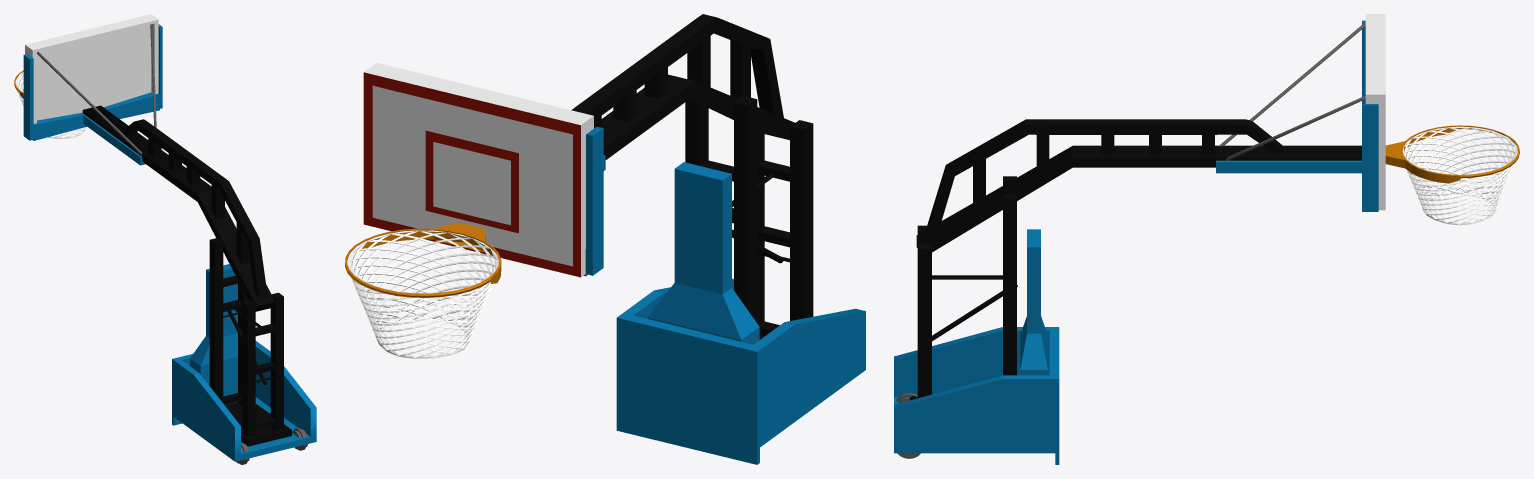
Rendered from hoopring.glb.
3 renders of one model, left to right at view 1: azimuth 30°, elevation 25°; view 2: azimuth 150°, elevation 25°; view 3: azimuth 270°, elevation 25°, orthographic. The views are drawn at different scales.
Parts seen in each view (by area): view 1: Cube.016, Cylinder.004, Cube, Cube.014, Cube.009, Cube.015, Cube.001, Cylinder.001, Cylinder.005, Cylinder.003; view 2: Cube.016, Cube, Cylinder.004, Cube.001, Cylinder.003, Cube.014, Cube.009, Cube.015, Cylinder.016; view 3: Cube, Cube.009, Cube.014, Cylinder.003, Cylinder.004, Cube.015, Cube.001, Cube.016, Cylinder.016, Cylinder.001.
Boxes of the visible parts, x1,y1,x2,y2 form: Cube.016: (25, 14, 158, 123); Cylinder.004: (209, 238, 291, 446); Cube: (172, 341, 316, 461); Cube.014: (121, 119, 267, 299); Cube.009: (82, 105, 275, 311); Cube.015: (23, 24, 162, 165); Cube.001: (190, 264, 237, 404); Cylinder.001: (37, 52, 142, 155); Cylinder.005: (150, 24, 156, 127); Cylinder.003: (15, 72, 86, 138); Cube.016: (363, 63, 593, 277); Cube: (616, 278, 865, 464); Cylinder.004: (685, 96, 813, 339); Cube.001: (647, 162, 759, 344); Cylinder.003: (347, 230, 498, 358); Cube.014: (571, 14, 783, 128); Cube.009: (601, 74, 794, 159); Cube.015: (583, 127, 605, 276); Cylinder.016: (345, 222, 501, 297); Cube: (894, 327, 1059, 464); Cube.009: (916, 145, 1361, 252); Cube.014: (924, 119, 1286, 238); Cylinder.003: (1402, 126, 1517, 225); Cylinder.004: (909, 176, 1017, 400); Cube.015: (1216, 20, 1378, 211); Cube.001: (1020, 229, 1047, 375); Cube.016: (1365, 14, 1385, 210); Cylinder.016: (1385, 125, 1519, 183); Cylinder.001: (1219, 22, 1365, 146).
Bounding box in the file's own units: 2.76 × 5.84 × 8.6.
1 material, 1 textured.
